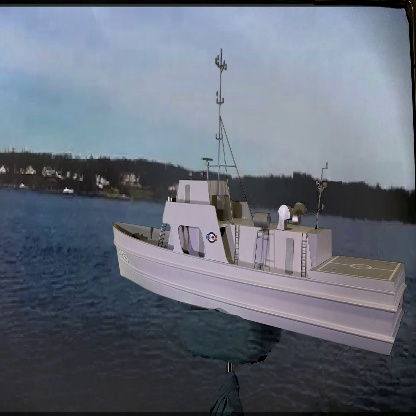YP689: (113, 50, 408, 356)
